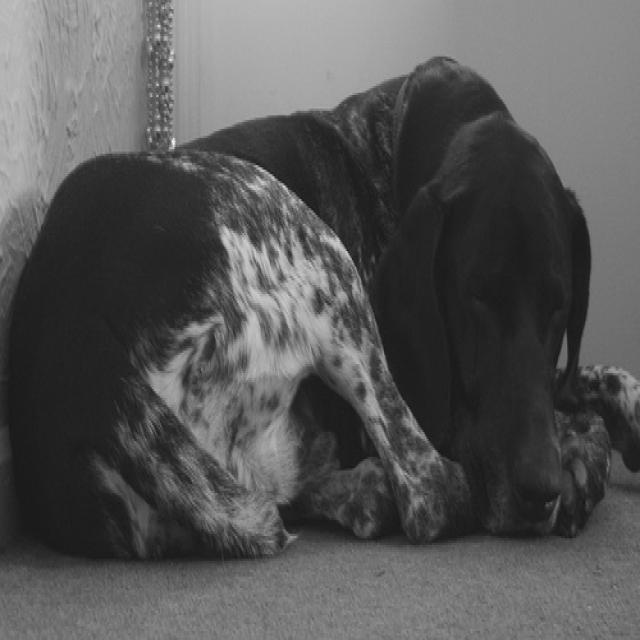dog: (368, 109, 592, 488)
